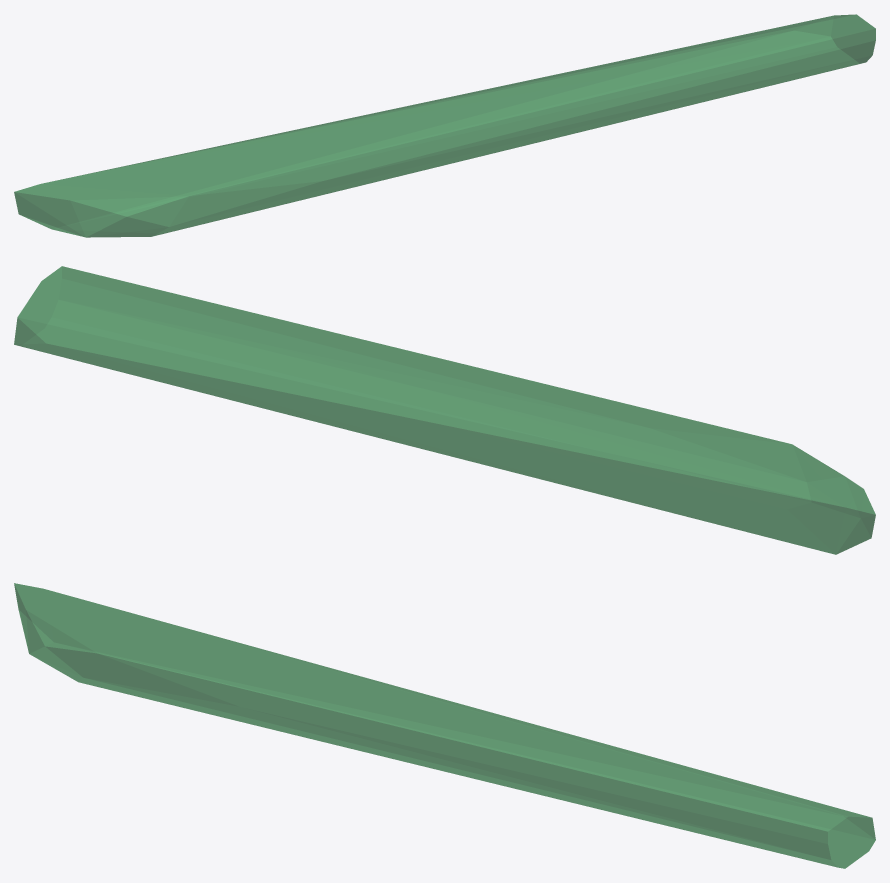
3 views of the same model, one above another, from view 1: azimuth 30°, elevation 25°; view 2: azimuth 150°, elevation 25°; view 3: azimuth 330°, elevation 25° (orthographic). The views are drawn at different scales.
Visible parts, largest first — view 1: Shape_IndexedFaceSet.008_Shape_IndexedFaceSet.14684; view 2: Shape_IndexedFaceSet.008_Shape_IndexedFaceSet.14684; view 3: Shape_IndexedFaceSet.008_Shape_IndexedFaceSet.14684.
Boxes of the visible parts, x1,y1,x2,y2 form: Shape_IndexedFaceSet.008_Shape_IndexedFaceSet.14684: (14, 14, 875, 237); Shape_IndexedFaceSet.008_Shape_IndexedFaceSet.14684: (14, 266, 875, 554); Shape_IndexedFaceSet.008_Shape_IndexedFaceSet.14684: (14, 583, 875, 868).
Size of the model in its own units: 0.4011 by 0.0223 by 0.0419.
